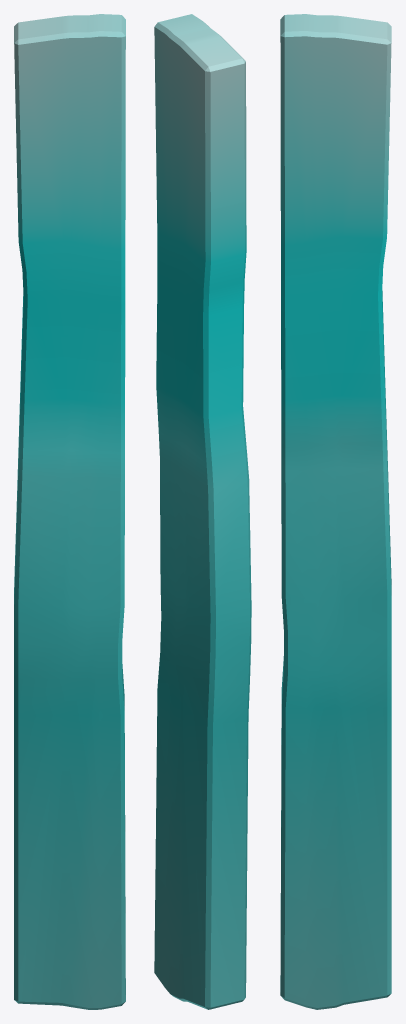
The model's file is SM_WoodenPlanks_07_A.fbx.
3 views of the same model, side by side, from view 1: azimuth 90°, elevation 25°; view 2: azimuth 210°, elevation 25°; view 3: azimuth 270°, elevation 25° (orthographic). The views are drawn at different scales.
Parts seen in each view (by area): view 1: SM_WoodenPlanks_07_LOD0; view 2: SM_WoodenPlanks_07_LOD0; view 3: SM_WoodenPlanks_07_LOD0.
Part boxes in pixels (left/top/right/bottom): SM_WoodenPlanks_07_LOD0: left=14, top=14, right=125, bottom=1009; SM_WoodenPlanks_07_LOD0: left=154, top=14, right=251, bottom=1009; SM_WoodenPlanks_07_LOD0: left=280, top=14, right=391, bottom=1009.
Bounding box in the file's own units: 11.86 × 24.07 × 234.
